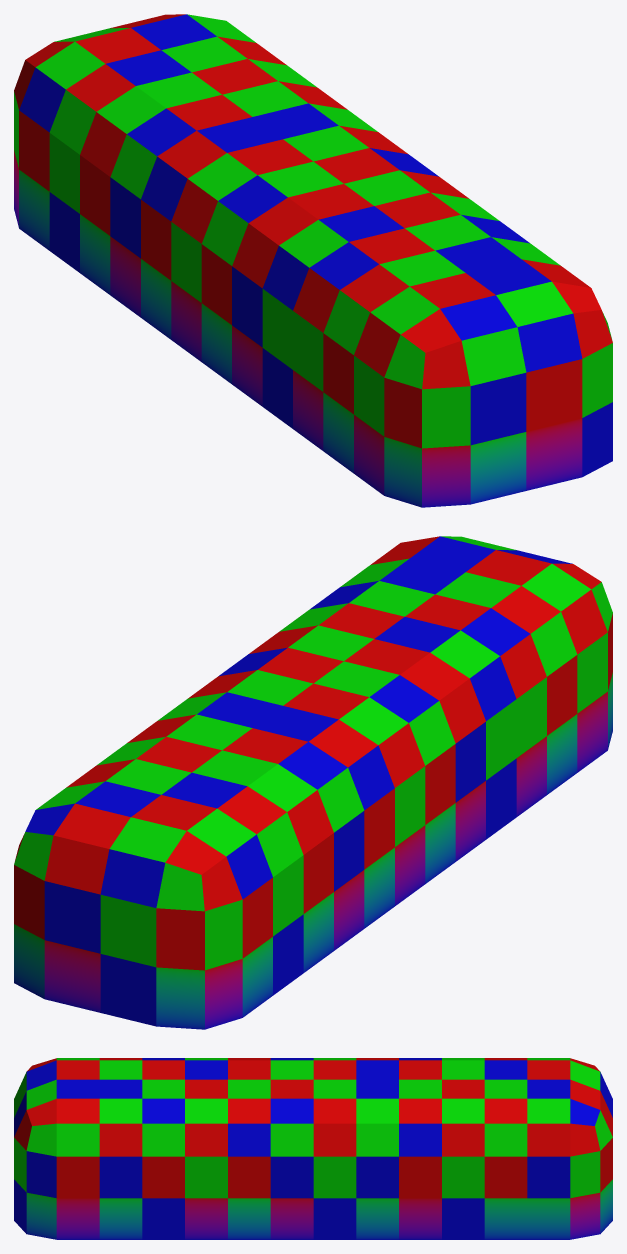
File: Bush_A_02.fbx
3 views of the same model, one above another, from view 1: azimuth 30°, elevation 25°; view 2: azimuth 150°, elevation 25°; view 3: azimuth 270°, elevation 25° (orthographic). The views are drawn at different scales.
Parts seen in each view (by area): view 1: Bush_A_02; view 2: Bush_A_02; view 3: Bush_A_02.
Part boxes in pixels (bbox=[...]): Bush_A_02: bbox=[14, 14, 612, 507]; Bush_A_02: bbox=[14, 536, 612, 1029]; Bush_A_02: bbox=[14, 1058, 612, 1239].
Bounding box in the file's own units: 0.8756 × 0.6491 × 2.89.
